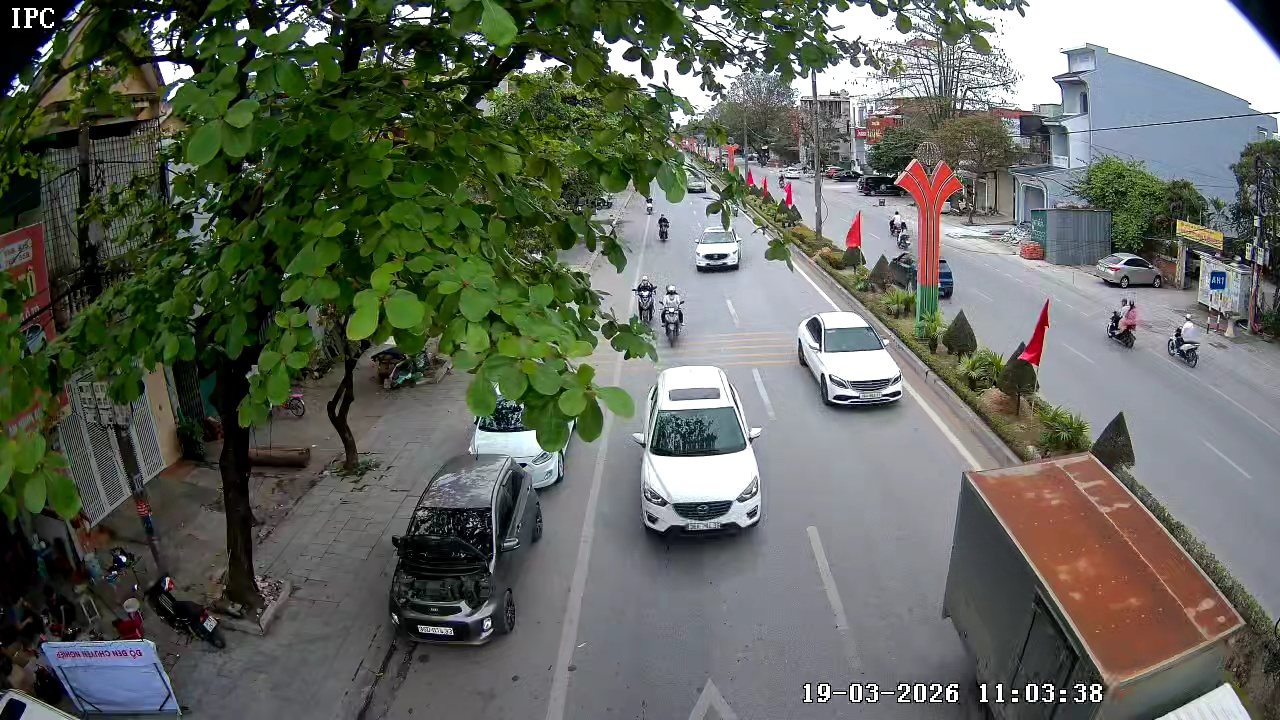car: (388, 452, 545, 646), (632, 364, 765, 539), (795, 310, 904, 408), (469, 397, 572, 491), (1094, 250, 1163, 288), (693, 226, 743, 272)
motorbike: (1167, 313, 1204, 369), (659, 282, 687, 348), (1106, 296, 1139, 350), (631, 273, 658, 323), (656, 212, 671, 243)
